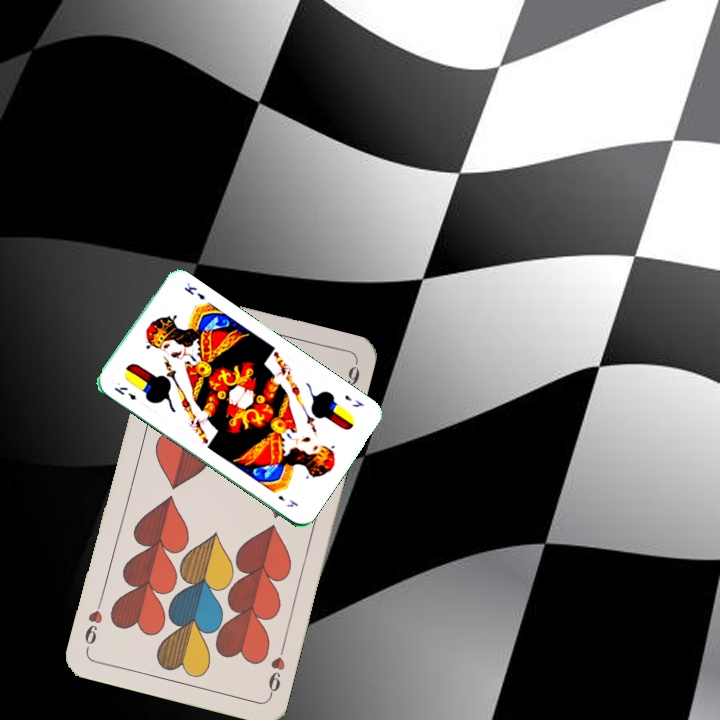EK: (110, 383, 139, 403), (340, 391, 366, 410)
H9: (264, 641, 288, 699)
